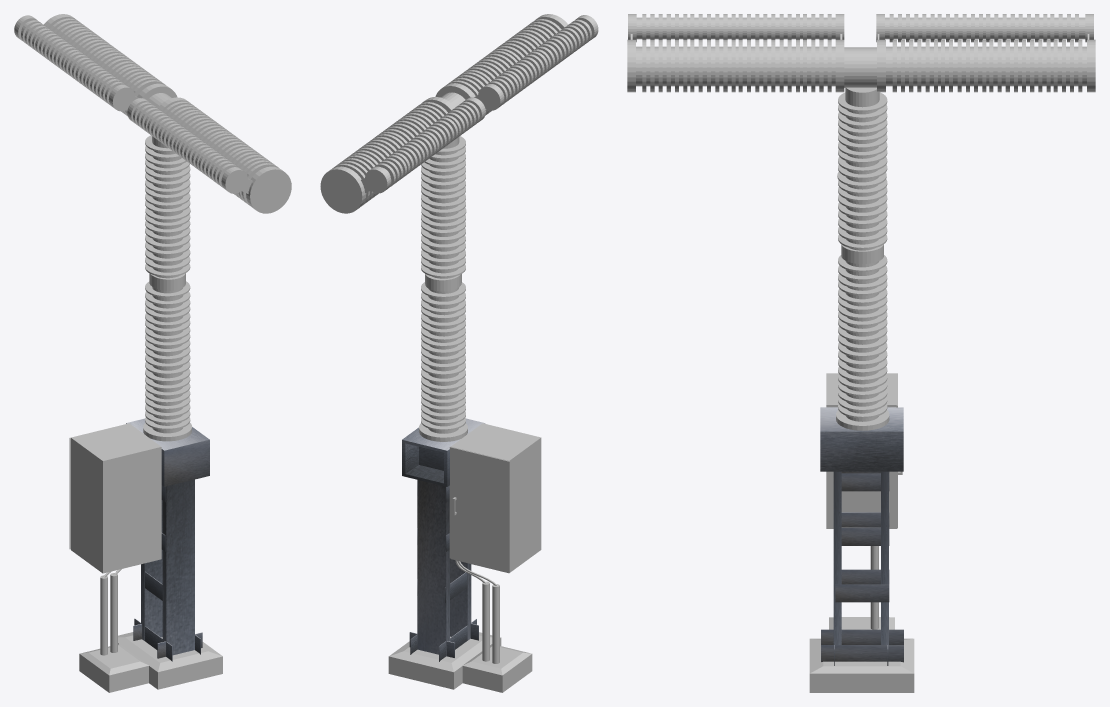
File: Torre2_1caja.fbx
3 renders of one model, left to right at view 1: azimuth 30°, elevation 25°; view 2: azimuth 150°, elevation 25°; view 3: azimuth 270°, elevation 25°, orthographic. The views are drawn at different scales.
Visible parts, largest first — view 1: Cube.014; view 2: Cube.014, Cubo.007; view 3: Cube.014.
Part boxes in pixels (x1,y1,x2,y2): Cube.014: (14,14,291,692); Cube.014: (320,14,598,692); Cubo.007: (449,446,510,572); Cube.014: (627,14,1095,692).
Size of the model in its own units: 143 by 700 by 464.
